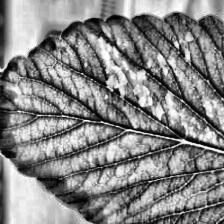Angular Leafspot: (79, 18, 224, 156)
